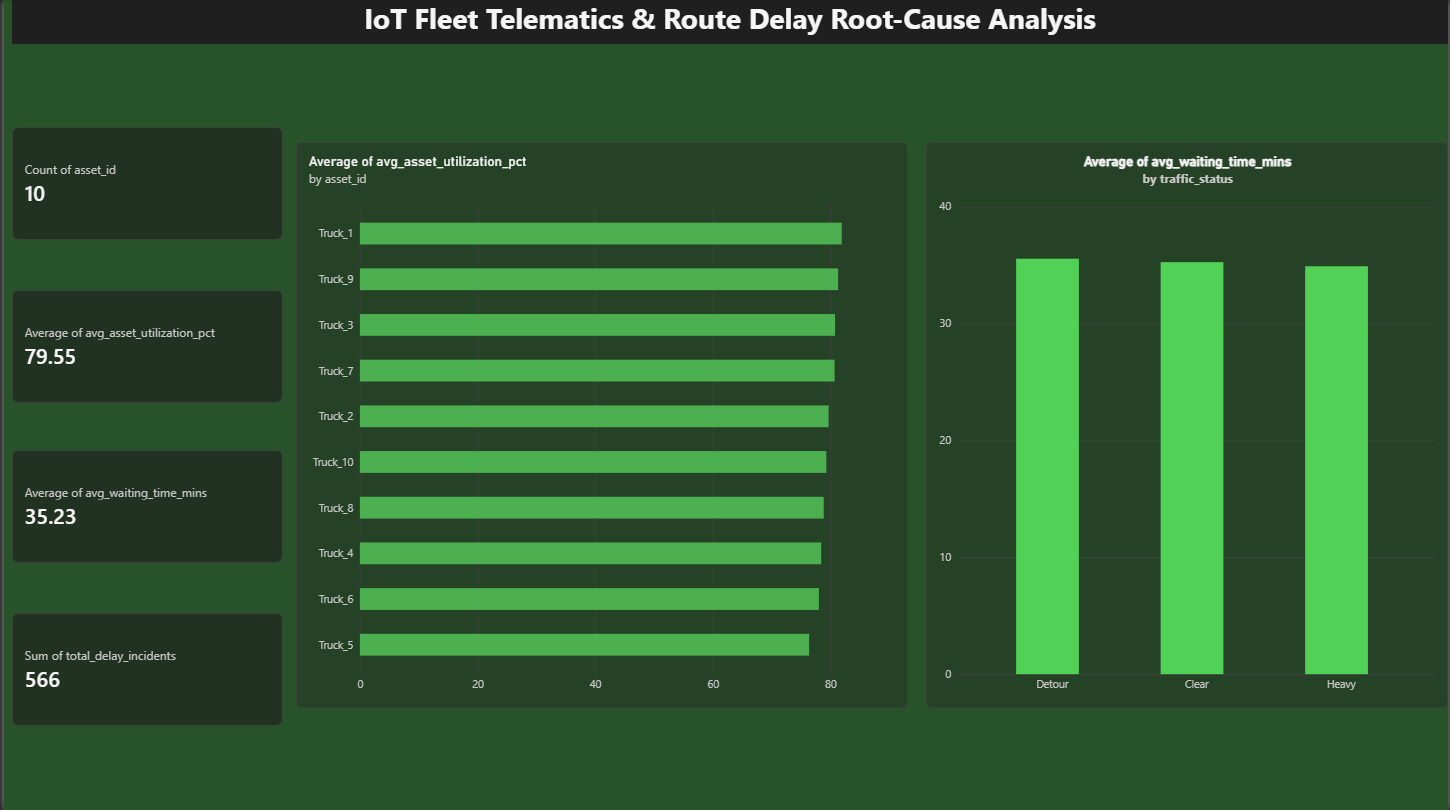

What the dashboard file says about the page in this screenshot:
{"tool":"powerbi","page":{"name":"IoT Fleet Telematics","canvas":[1920,1080],"ordinal":2},"visuals":[{"type":"textbox","box":[10,0,1910,60],"z":0},{"type":"cardVisual","fields":{"Data":["Count(gold_fleet_telematics_delays.asset_id)"]},"box":[10,170,360,150],"z":1000},{"type":"cardVisual","fields":{"Data":["Avg(gold_fleet_telematics_delays.avg_asset_utilization_pct)"]},"box":[10,386.7,360,150],"z":2000},{"type":"cardVisual","fields":{"Data":["Avg(gold_fleet_telematics_delays.avg_waiting_time_mins)"]},"box":[10,600,360,150],"z":3000},{"type":"cardVisual","fields":{"Data":["Sum(gold_fleet_telematics_delays.total_delay_incidents)"]},"box":[10,816.7,360,150],"z":4000},{"type":"clusteredBarChart","fields":{"Category":["gold_fleet_telematics_delays.asset_id"],"Y":["Avg(gold_fleet_telematics_delays.avg_asset_utilization_pct)"]},"box":[388.4,190.2,814,752.8],"z":5000},{"type":"clusteredColumnChart","fields":{"Category":["gold_fleet_telematics_delays.traffic_status"],"Y":["Avg(gold_fleet_telematics_delays.avg_waiting_time_mins)"]},"box":[1226.3,190.2,694.3,752.8],"z":6000}]}

Visuals, with their boxes in screenshot pixels (x1, y1, x2, y2), scaled from the page's 1920x1080 canvas onto the 1450x810 screenshot:
textbox: <bbox>8, 0, 1449, 45</bbox>
cardVisual - Count(gold_fleet_telematics_delays.asset_id): <bbox>8, 128, 279, 240</bbox>
cardVisual - Avg(gold_fleet_telematics_delays.avg_asset_utilization_pct): <bbox>8, 290, 279, 403</bbox>
cardVisual - Avg(gold_fleet_telematics_delays.avg_waiting_time_mins): <bbox>8, 450, 279, 562</bbox>
cardVisual - Sum(gold_fleet_telematics_delays.total_delay_incidents): <bbox>8, 613, 279, 725</bbox>
clusteredBarChart - gold_fleet_telematics_delays.asset_id x Avg(gold_fleet_telematics_delays.avg_asset_utilization_pct): <bbox>293, 143, 908, 707</bbox>
clusteredColumnChart - gold_fleet_telematics_delays.traffic_status x Avg(gold_fleet_telematics_delays.avg_waiting_time_mins): <bbox>926, 143, 1449, 707</bbox>
